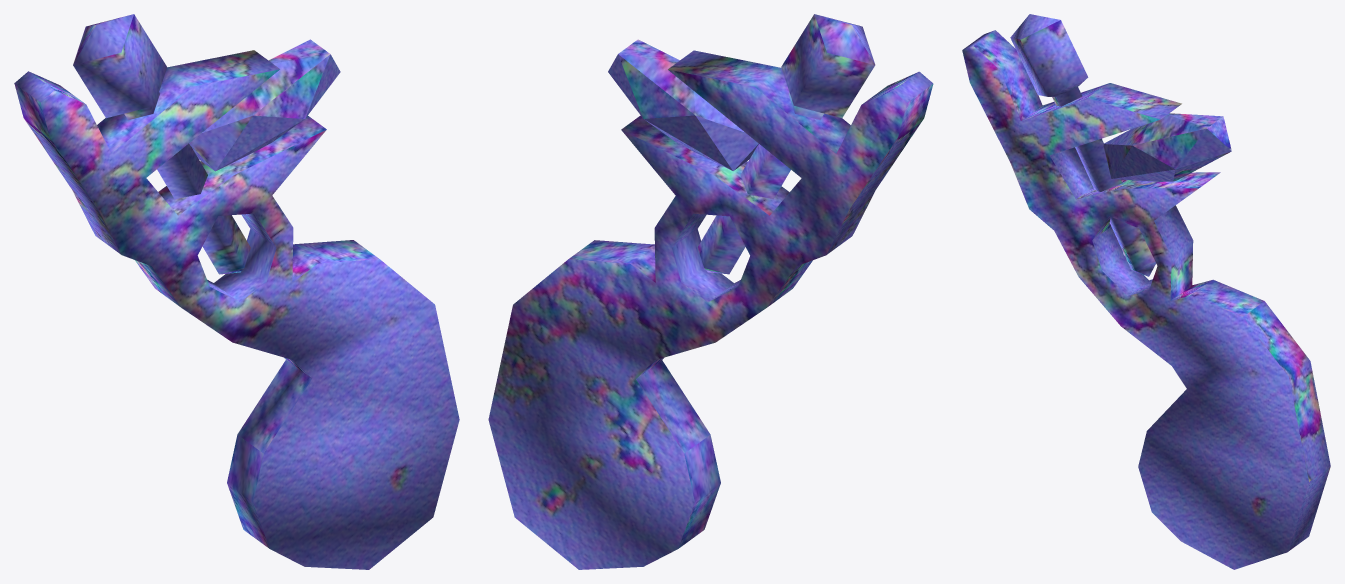
File: lock.obj
3 renders of one model, left to right at view 1: azimuth 30°, elevation 25°; view 2: azimuth 150°, elevation 25°; view 3: azimuth 330°, elevation 25°, orthographic. The views are drawn at different scales.
Visible parts, largest first — view 1: Cylinder.000; view 2: Cylinder.000; view 3: Cylinder.000.
Boxes of the visible parts, <box> form: Cylinder.000: <box>14,14,459,569</box>; Cylinder.000: <box>488,14,933,569</box>; Cylinder.000: <box>962,14,1330,569</box>.
Size of the model in its own units: 1.18 by 1.62 by 0.1745.
